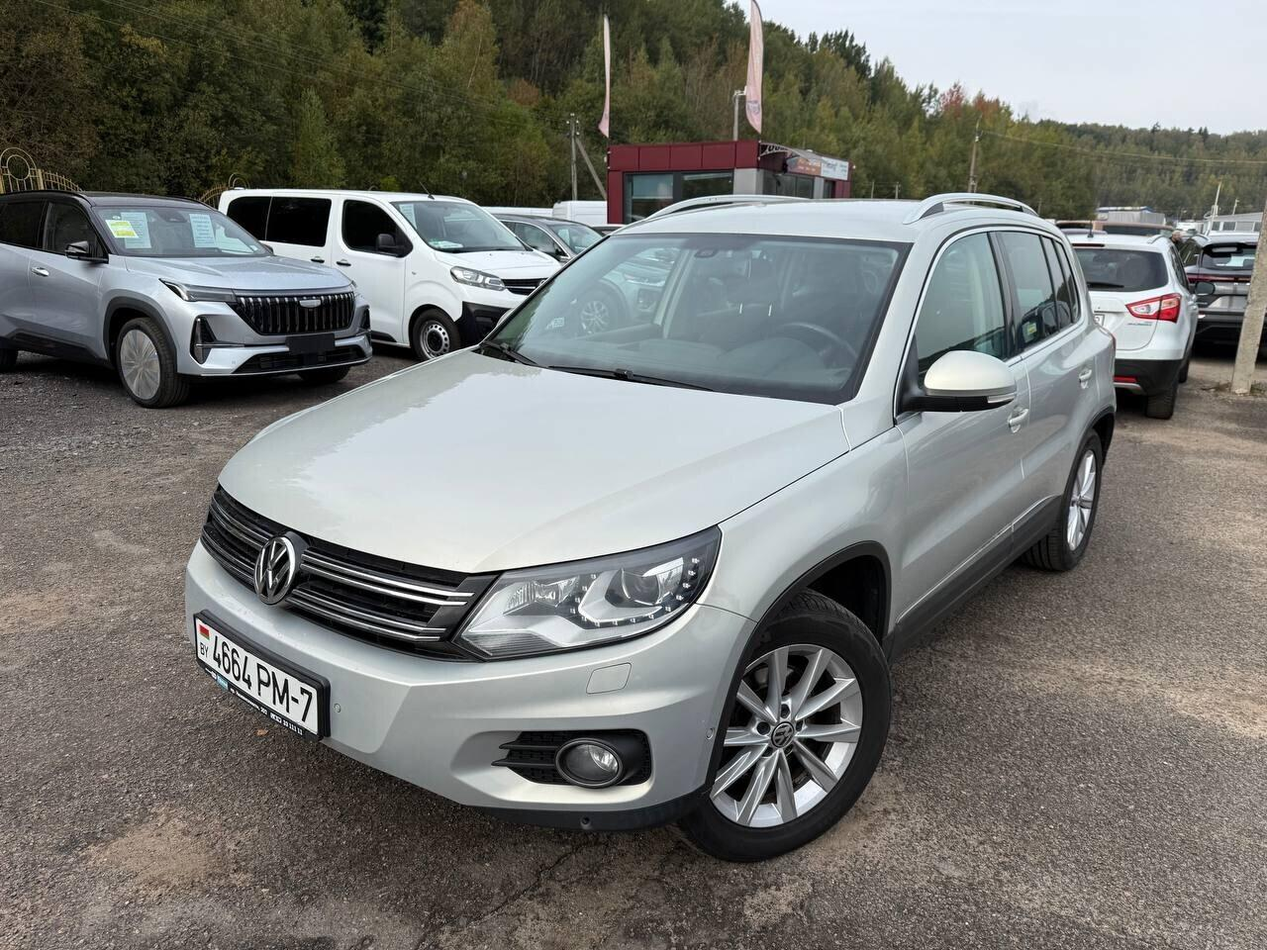Tiguan_2011-2018: (182, 190, 1128, 863)
